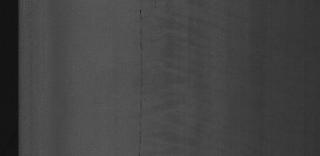inclusion: (130, 5, 152, 150)
water spot: (160, 12, 208, 142)
